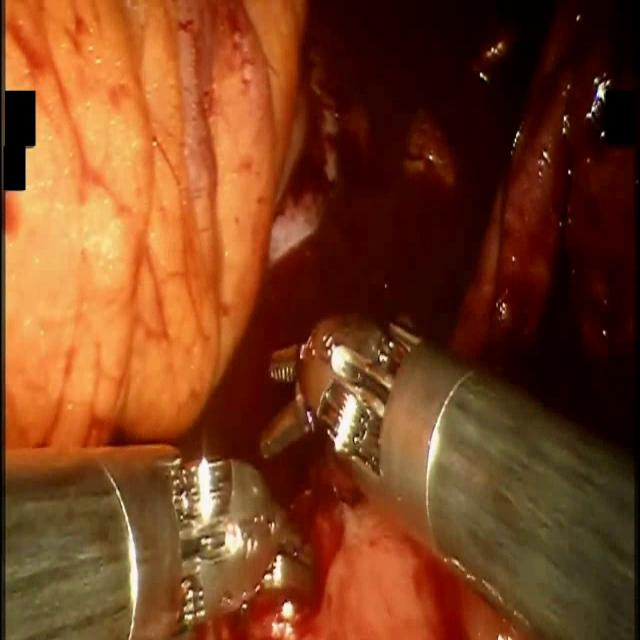surgical-area: (4, 0, 640, 639)
surgical-tool: (258, 304, 638, 639), (2, 444, 316, 639)
